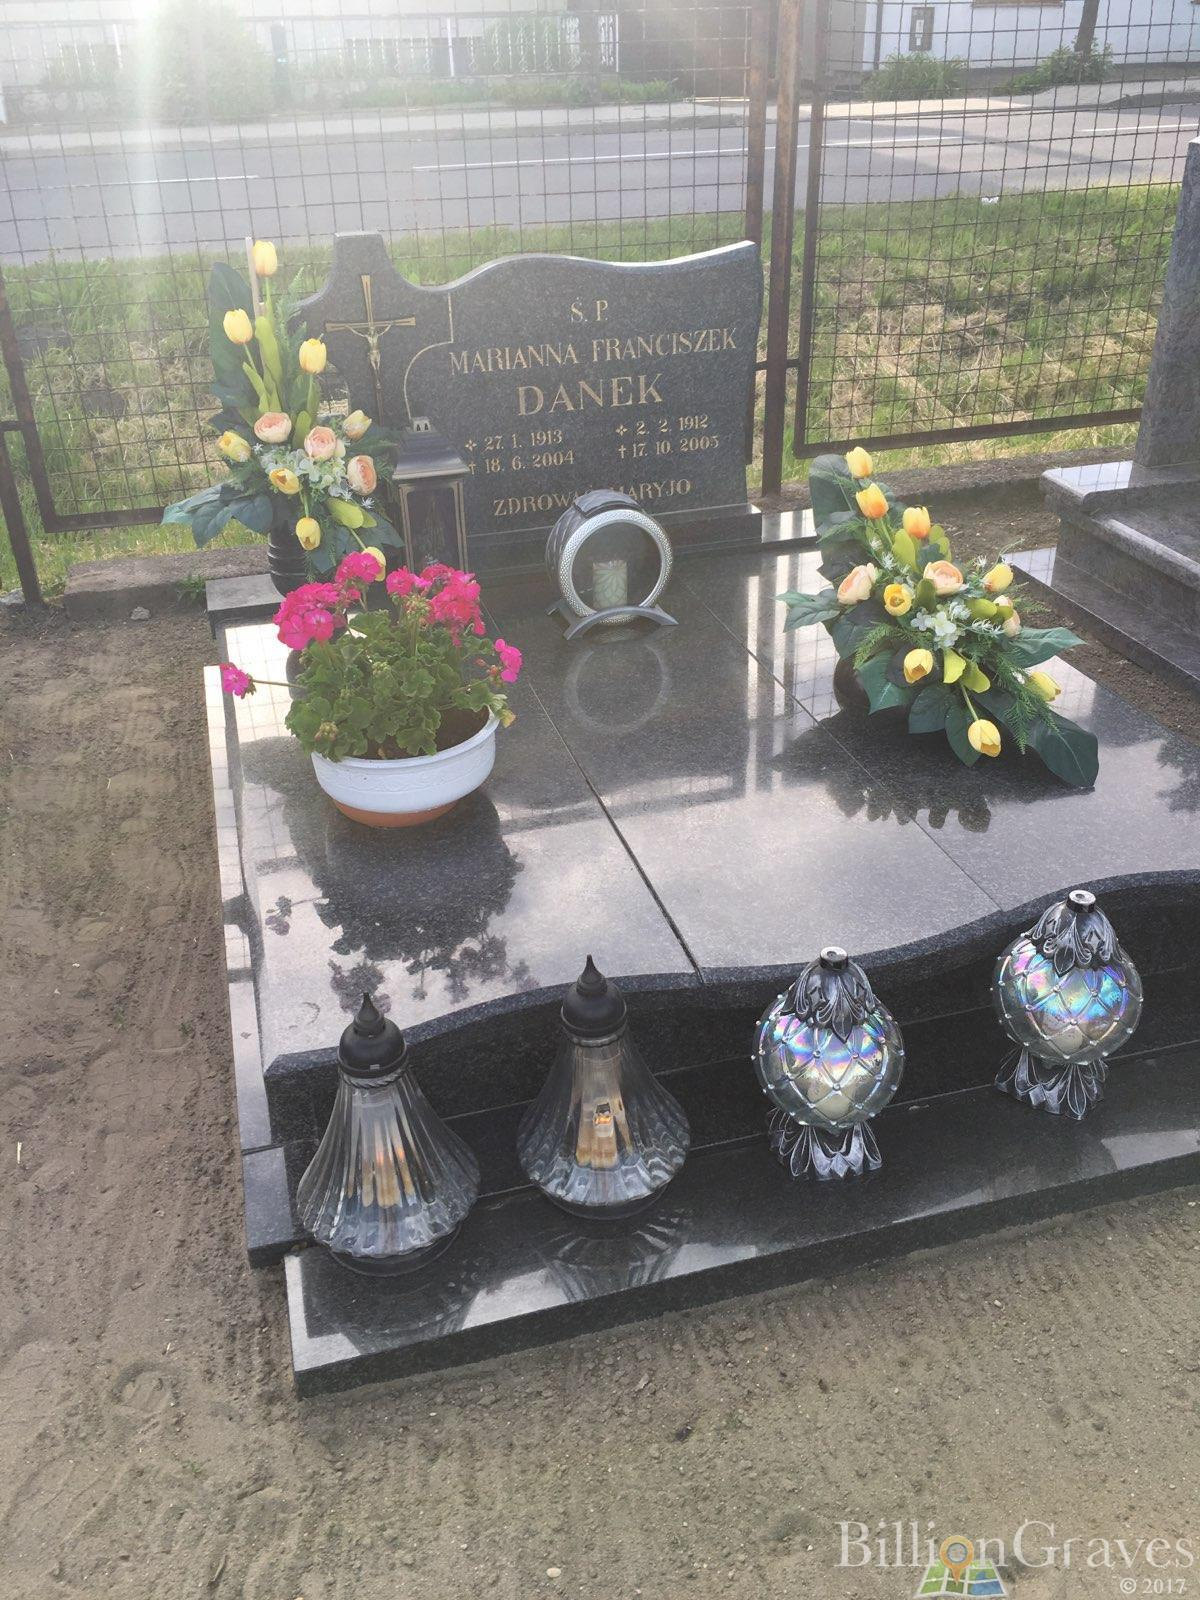vault: (208, 228, 1200, 1411)
